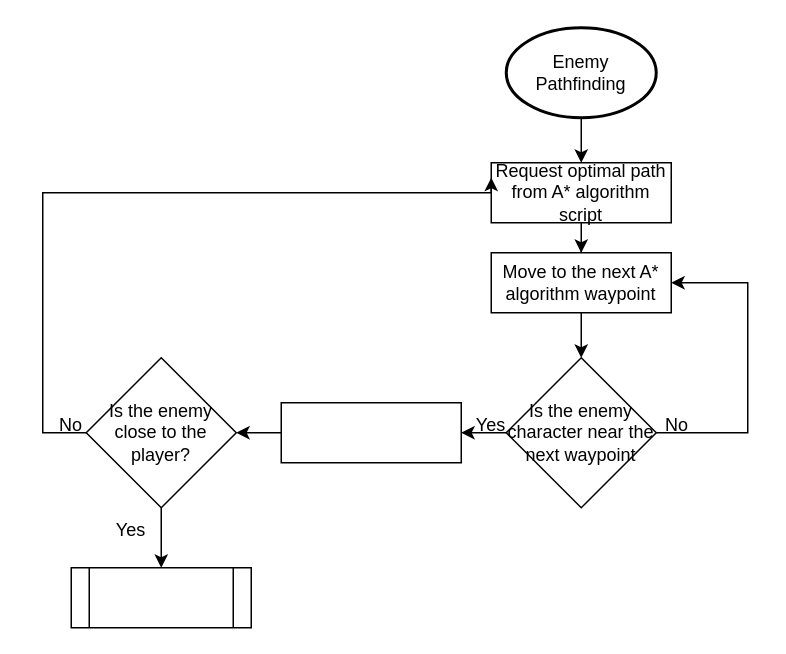
Image size: 786x654. Some labels were removed from this diagram. The shapes that lost their labels are listed below. From the top down, each one's centre as x and y in pixels, then its label:
At point (370, 432): "Move enemy to the next waypoint".
At point (160, 597): "Enemy Attack Function".
